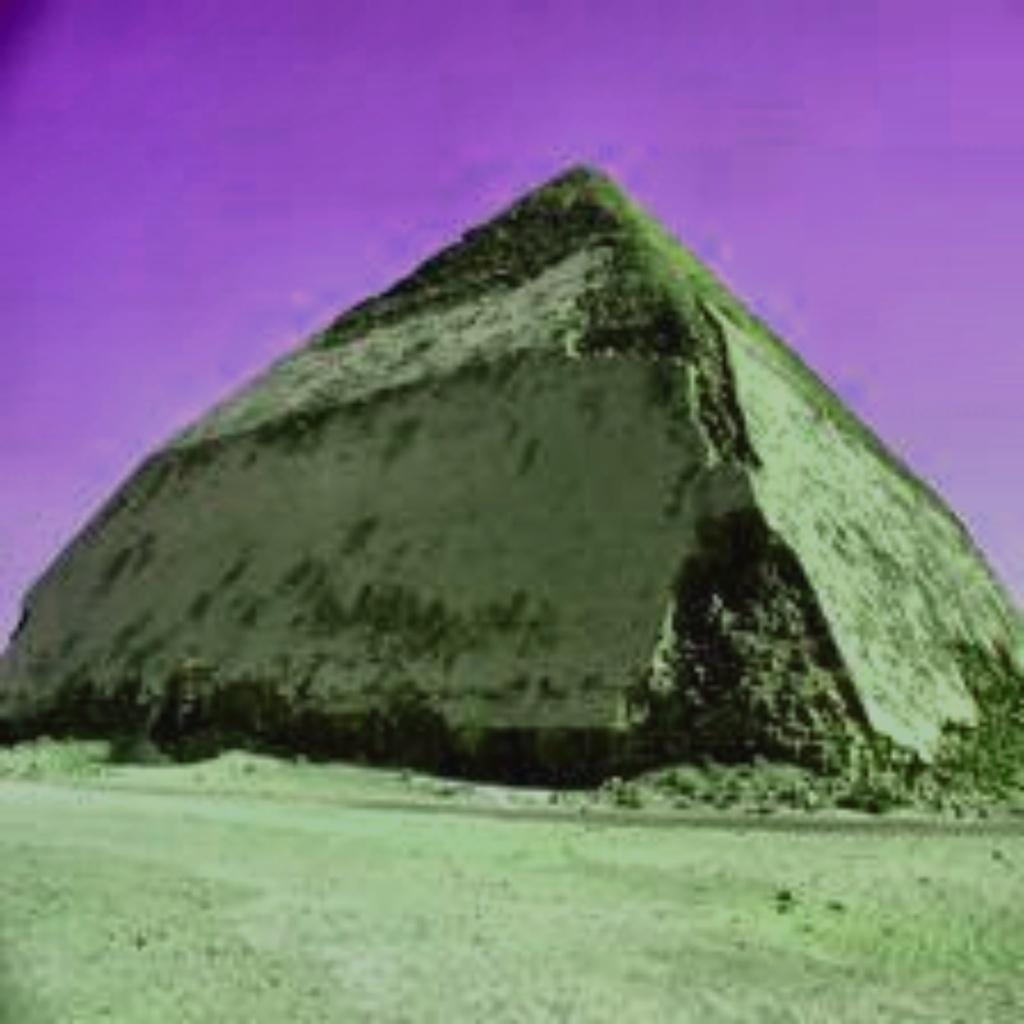Bent Pyramid of King Sneferu: (0, 151, 1019, 800)
